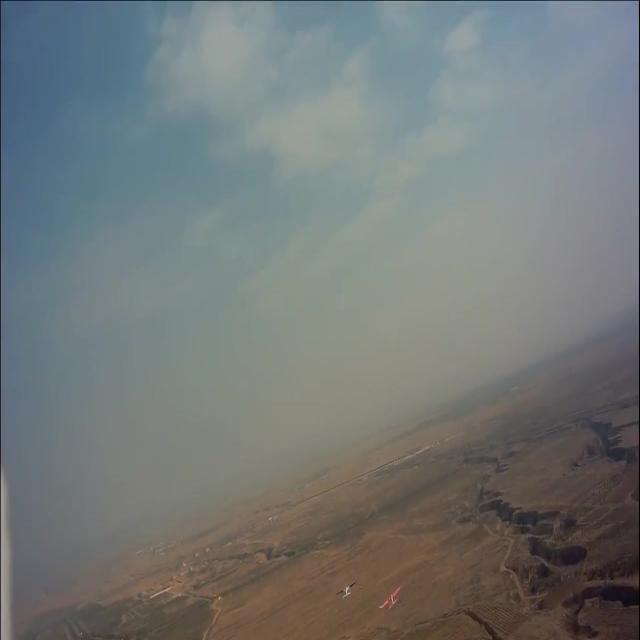iha: (378, 581, 402, 611), (335, 579, 357, 598)
